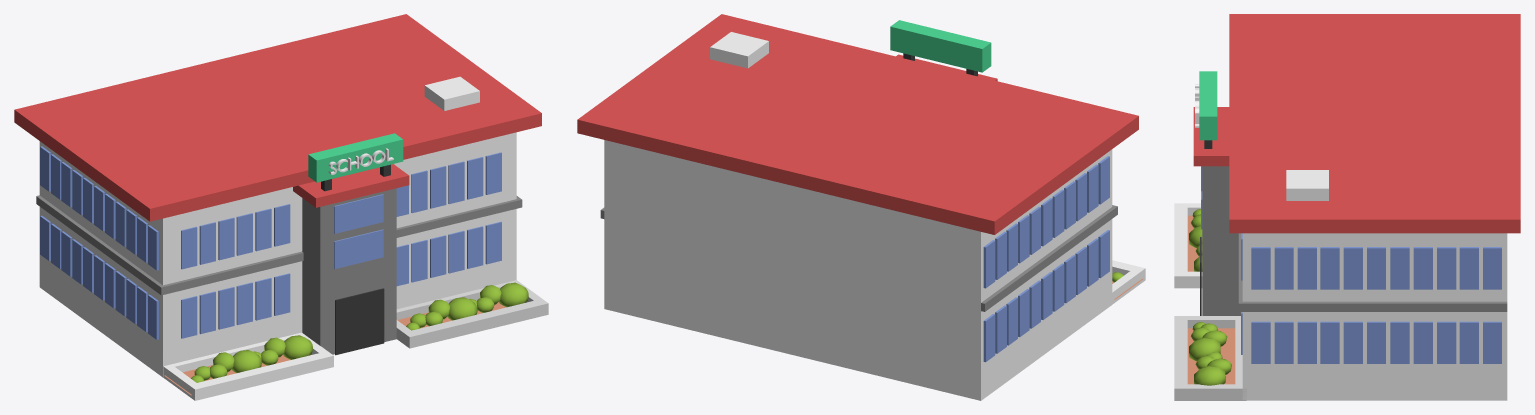
The model's file is school.fbx.
3 renders of one model, left to right at view 1: azimuth 30°, elevation 25°; view 2: azimuth 150°, elevation 25°; view 3: azimuth 270°, elevation 25°, orthographic. The views are drawn at different scales.
Parts seen in each view (by area): view 1: Cube.001, Cube, Cube.002, Cube.022, Cube.037, Cube.035, Cube.006, Cube.009, Cube.003, Cube.008, Cube.007, Cube.084 (+31 smaller); view 2: Cube, Cube.001, Cube.006, Cube.022, Cube.084, Cube.037, Cube.072, Cube.077, Cube.066, Cube.083, Cube.067, Cube.068 (+12 smaller); view 3: Cube.001, Cube, Cube.002, Cube.022, Cube.035, Cube.037, Cube.006, Cube.003, Cube.084, Bushes_15_2, Cube.038, Bushes_15_2.001 (+24 smaller).
Part boxes in pixels (x1,y1,x2,y2): Cube.001: (14,14,541,221); Cube: (39,132,516,377); Cube.002: (302,188,396,354); Cube.022: (36,195,522,295); Cube.037: (163,332,333,400); Cube.035: (396,280,548,348); Cube.006: (308,133,403,182); Cube.009: (335,288,384,355); Cube.003: (293,164,409,207); Cube.008: (334,229,383,269); Cube.007: (334,194,383,233); Cube.084: (424,76,479,110); Cube: (604,140,1112,400); Cube.001: (577,14,1138,234); Cube.006: (890,20,991,72); Cube.022: (600,205,1117,311); Cube.084: (710,32,768,68); Cube.037: (1112,260,1145,304); Cube.072: (983,240,995,288); Cube.077: (1052,263,1064,311); Cube.066: (1052,189,1064,237); Cube.083: (983,314,995,362); Cube.067: (1041,198,1052,246); Cube.068: (1029,206,1040,254); Cube.001: (1229,14,1520,233); Cube: (1242,233,1507,400); Cube.002: (1202,166,1240,315); Cube.022: (1238,233,1507,311); Cube.035: (1174,316,1246,400); Cube.037: (1174,203,1202,288); Cube.006: (1195,71,1217,140); Cube.003: (1193,107,1229,166); Cube.084: (1286,170,1328,200); Bushes_15_2: (1189,322,1227,361); Cube.038: (1187,328,1235,384); Bushes_15_2.001: (1194,352,1231,385).
Bounding box in the file's own units: 923 × 449 × 657.
